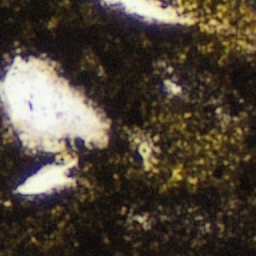cement_matrix: (0, 0, 255, 255), (137, 138, 154, 167), (205, 20, 224, 29), (167, 82, 179, 94)
gravel_crushed_stones: (0, 57, 107, 196), (101, 0, 195, 24), (138, 139, 153, 166), (206, 21, 223, 28), (168, 83, 178, 93)
